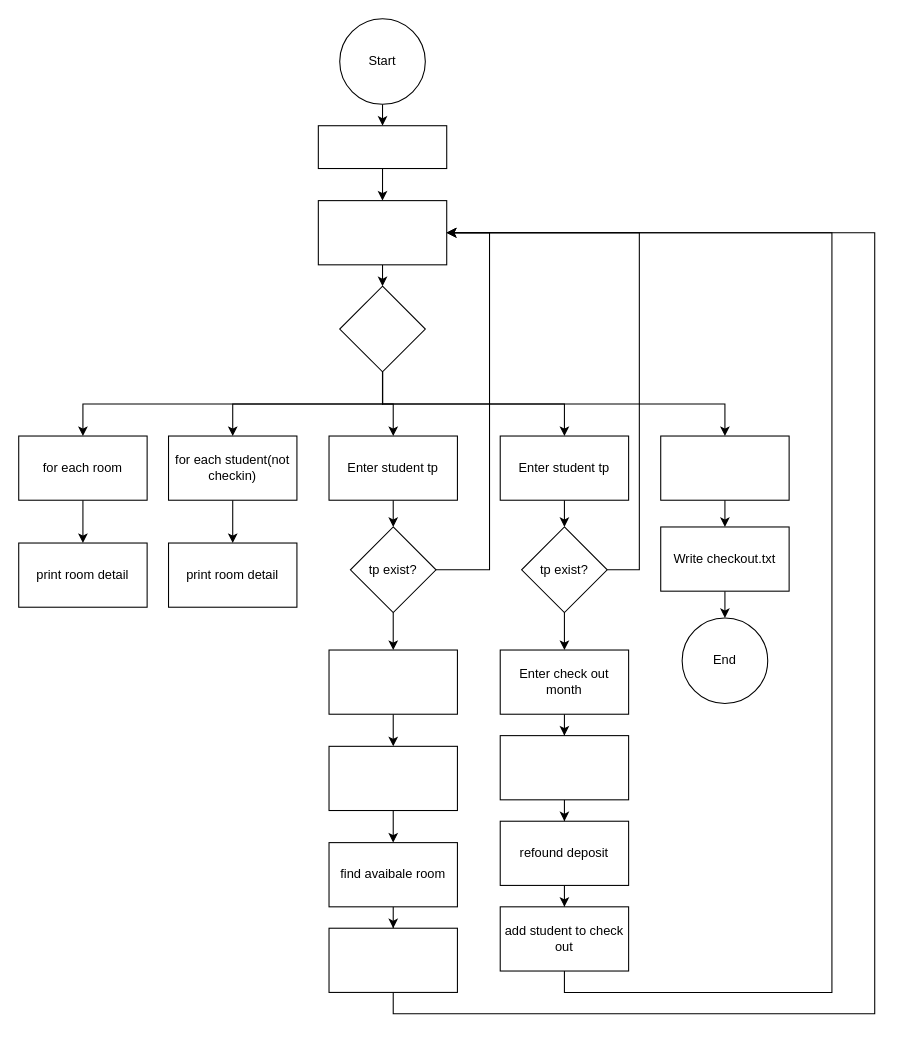
The diagram is 902 pixels wide and 1041 high, and some of its shapes have lost their labels. Here are the shapes that lost their labels. From the top down, the box of each, then its label:
(317, 125, 447, 169): read files
(317, 200, 447, 265): Show menu
(339, 285, 425, 372): menu option
(660, 435, 789, 500): Exit
(328, 649, 457, 714): Enter aparment type
(328, 745, 457, 811): Enter room type
(499, 735, 629, 800): Calculate refound
(328, 927, 457, 992): payment
